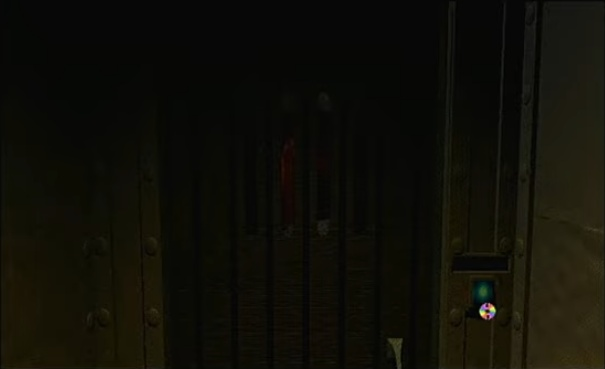Waiting: (477, 299, 499, 321)
